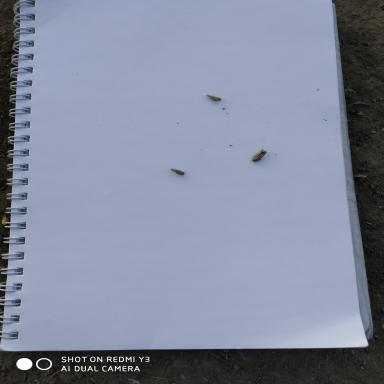pbw: (248, 149, 268, 162), (206, 93, 221, 102), (170, 167, 185, 175)
